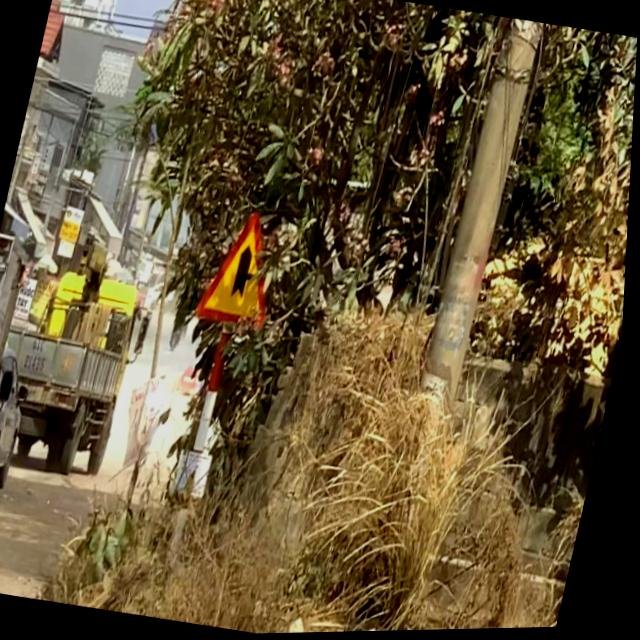Cam di nguoc chieu: (181, 365, 203, 395)
Giao nhau voi duong khong uu tien ben phai: (195, 202, 295, 332)
